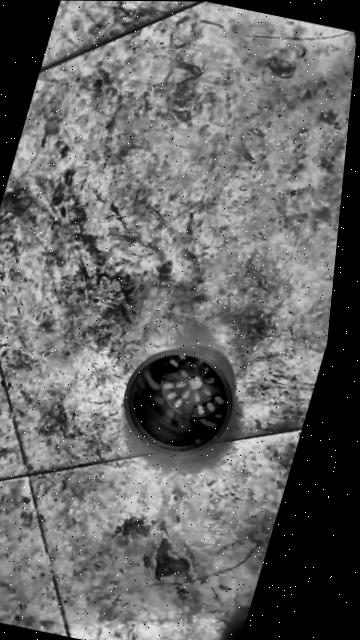pot: (107, 341, 246, 463)
